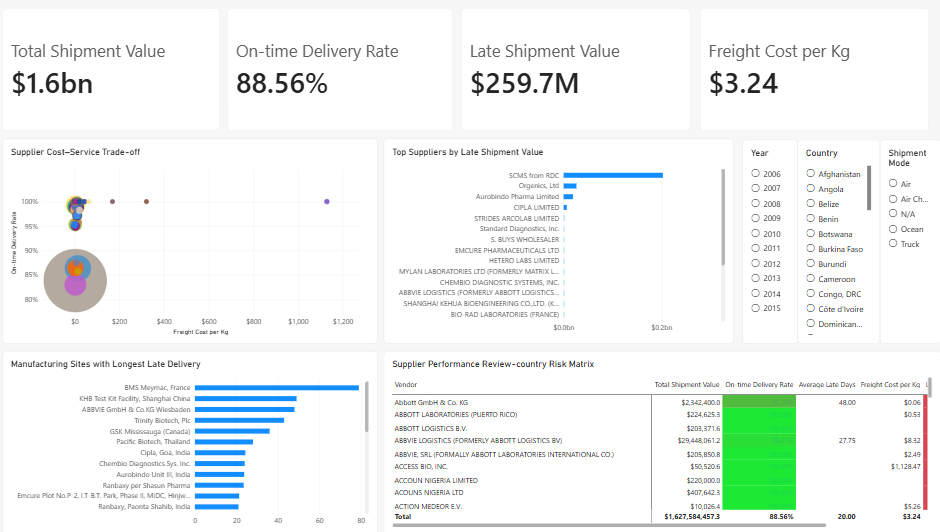

What the dashboard file says about the page in this screenshot:
{"tool":"powerbi","page":{"name":"Supplier Performance","canvas":[1920,1080],"ordinal":2},"visuals":[{"type":"cardVisual","fields":{"Data":["Measure.Total Shipment Value"]},"box":[14,24,434,244],"z":0},{"type":"cardVisual","fields":{"Data":["Measure.On-time Delivery Rate"]},"box":[464,24,450,244],"z":1},{"type":"cardVisual","fields":{"Data":["Measure.Late Shipment Value"]},"box":[932,24,458,244],"z":2},{"type":"cardVisual","fields":{"Data":["Measure.Freight Cost per Kg"]},"box":[1410,24,458,244],"z":3},{"type":"scatterChart","title":"Supplier Cost–Service Trade-off","fields":{"Series":["dim_vendor.Vendor"],"Size":["Measure.Total Shipment Value"],"X":["Measure.Freight Cost per Kg"],"Y":["Measure.On-time Delivery Rate"]},"box":[14,286,750,410],"z":4},{"type":"clusteredBarChart","title":"Top Suppliers by Late Shipment Value","fields":{"Category":["dim_vendor.Vendor"],"Y":["Measure.Late Shipment Value"]},"box":[778,286,700,410],"z":5},{"type":"clusteredBarChart","title":"Manufacturing Sites with Longest Late Delivery","fields":{"Category":["fact_shipment.Manufacturing Site"],"Y":["Measure.Average Late Days"]},"box":[14,710,750,370],"z":6},{"type":"pivotTable","title":"Supplier Performance Review-country Risk Matrix","fields":{"Rows":["dim_vendor.Vendor"],"Values":["Measure.Total Shipment Value","Measure.On-time Delivery Rate","Measure.Average Late Days","Measure.Freight Cost per Kg","Measure.Late Shipment Value"]},"box":[778,710,1114,370],"z":7},{"type":"listSlicer","fields":{"Values":["dim_date.Year"]},"box":[1496,288,110,408],"z":8},{"type":"listSlicer","fields":{"Values":["dim_country.Country"]},"box":[1606,288,164,408],"z":9},{"type":"listSlicer","fields":{"Values":["dim_shipment_mode.Shipment Mode"]},"box":[1770,288,122,408],"z":10}]}

Visuals, with their boxes in screenshot pixels (x1, y1, x2, y2), scaled from the page's 1920x1080 canvas onto the 940x532 screenshot:
cardVisual - Measure.Total Shipment Value: locate(7, 12, 219, 132)
cardVisual - Measure.On-time Delivery Rate: locate(227, 12, 447, 132)
cardVisual - Measure.Late Shipment Value: locate(456, 12, 681, 132)
cardVisual - Measure.Freight Cost per Kg: locate(690, 12, 915, 132)
"Supplier Cost–Service Trade-off" scatterChart: locate(7, 141, 374, 343)
"Top Suppliers by Late Shipment Value" clusteredBarChart: locate(381, 141, 724, 343)
"Manufacturing Sites with Longest Late Delivery" clusteredBarChart: locate(7, 350, 374, 531)
"Supplier Performance Review-country Risk Matrix" pivotTable: locate(381, 350, 926, 531)
listSlicer - dim_date.Year: locate(732, 142, 786, 343)
listSlicer - dim_country.Country: locate(786, 142, 867, 343)
listSlicer - dim_shipment_mode.Shipment Mode: locate(867, 142, 926, 343)
